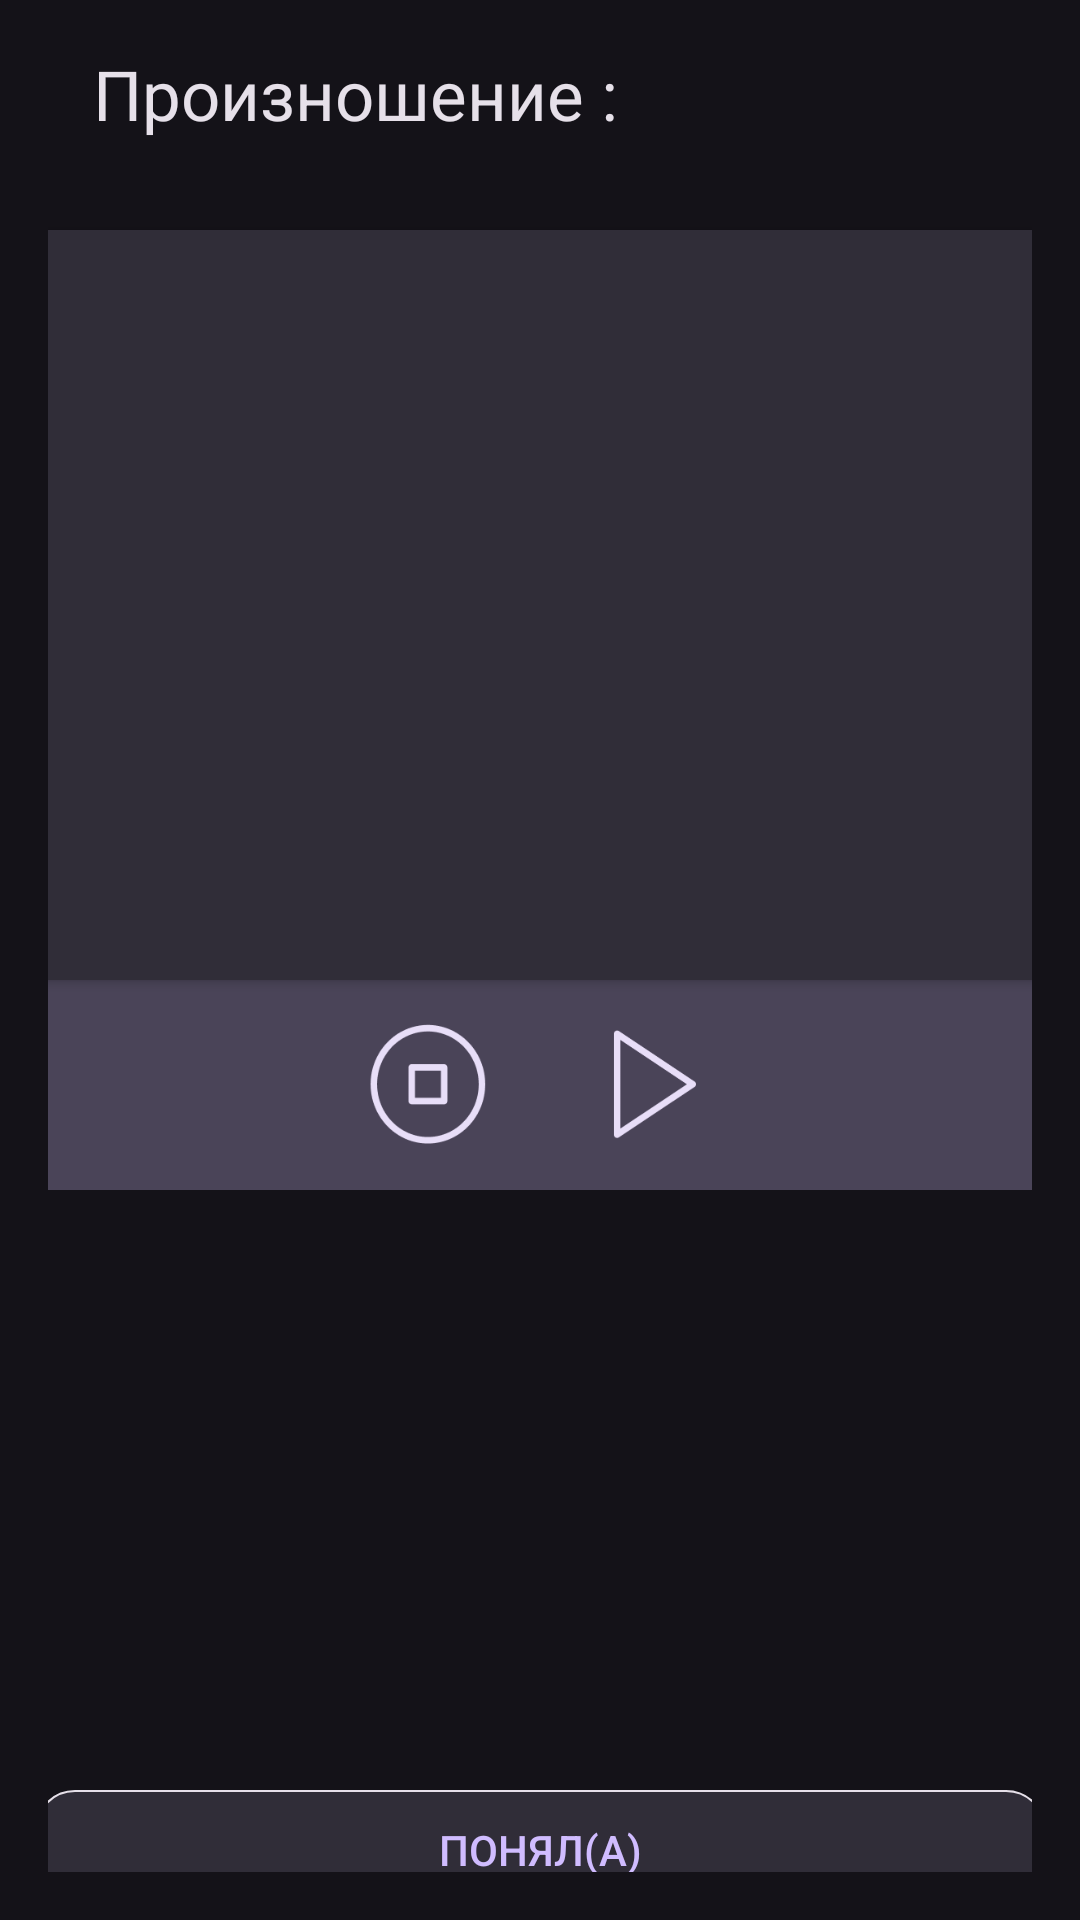

Screen size 1080 x 1920. Icon name, then its box in pixels as (x1, y1, x2, y2):
play: (614, 1030, 696, 1138)
stop circle: (370, 1024, 486, 1144)
